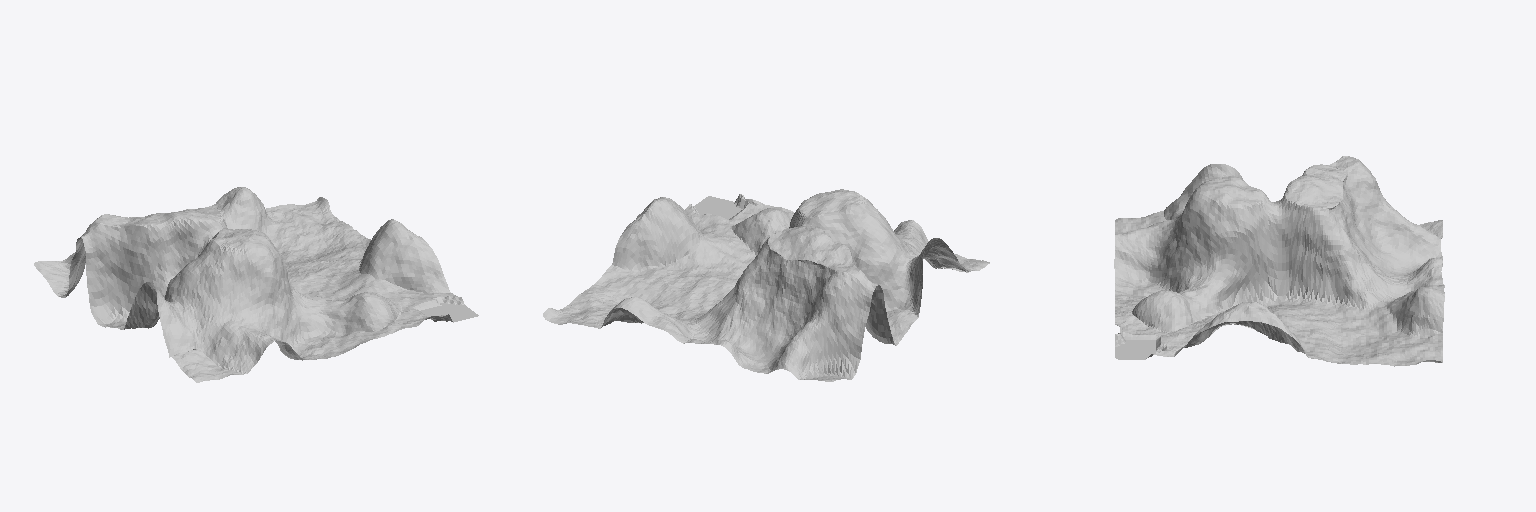
Rendered from procedural ground.obj.
3 views of the same model, side by side, from view 1: azimuth 30°, elevation 25°; view 2: azimuth 150°, elevation 25°; view 3: azimuth 270°, elevation 25° (orthographic).
Visible parts, largest first — view 1: ground; view 2: ground; view 3: ground.
Boxes of the visible parts, x1=… form: ground: x1=34, y1=187, x2=478, y2=382; ground: x1=543, y1=189, x2=989, y2=381; ground: x1=1114, y1=156, x2=1444, y2=366.
Size of the model in its own units: 4.09 by 1.34 by 4.04.